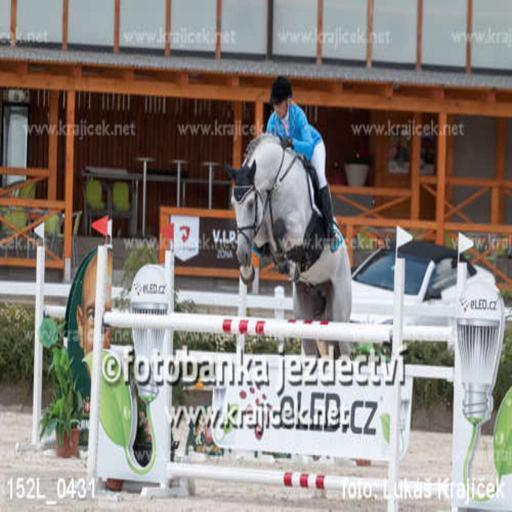horse: (223, 132, 352, 363)
